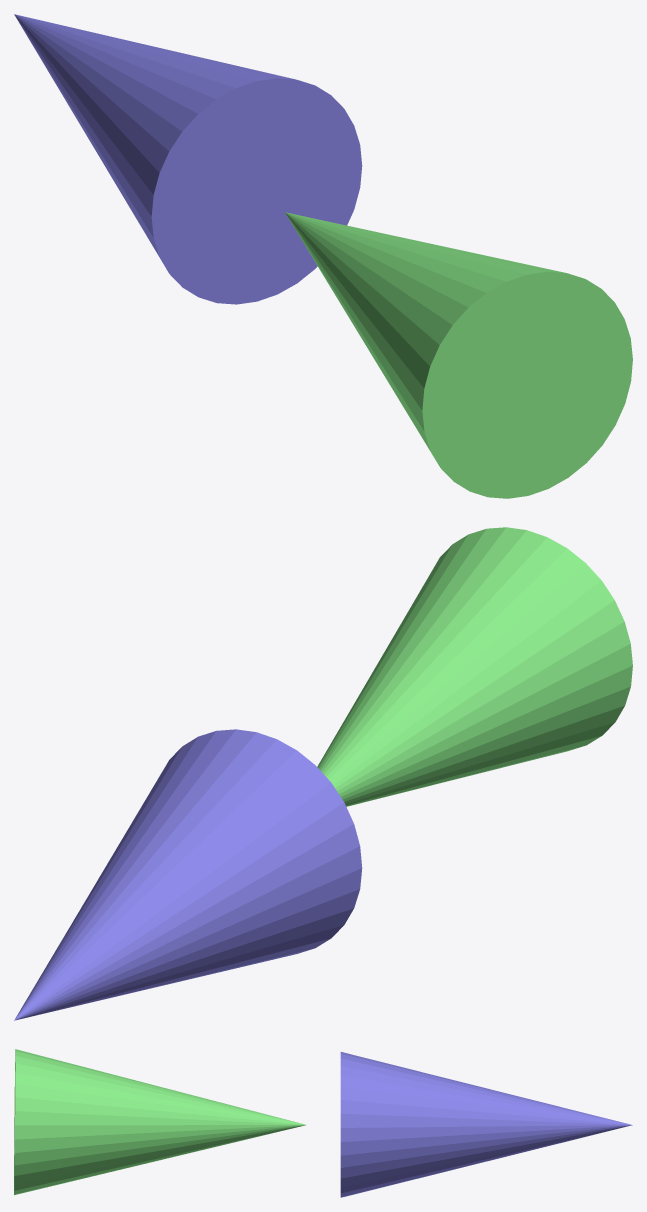
Rendered from sausage1.dae.
The picture shows the model from 3 angles, top to bottom: view 1: azimuth 30°, elevation 25°; view 2: azimuth 150°, elevation 25°; view 3: azimuth 270°, elevation 25°; orthographic projection. The views are drawn at different scales.
Visible parts, largest first — view 1: Cone0, Cone1; view 2: Cone1, Cone0; view 3: Cone1, Cone0.
Part boxes in pixels (<box>): Cone0: <box>285,212,632,498</box>; Cone1: <box>14,14,362,304</box>; Cone1: <box>14,729,362,1020</box>; Cone0: <box>317,527,632,806</box>; Cone1: <box>340,1052,632,1197</box>; Cone0: <box>14,1049,305,1195</box>.
Bounding box in the file's own units: 2 × 8.47 × 2.04.
